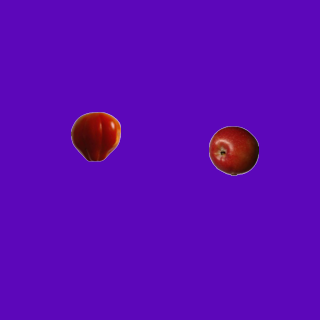Apple Braeburn: (208, 125, 258, 175)
Tomato 1: (70, 111, 120, 161)
